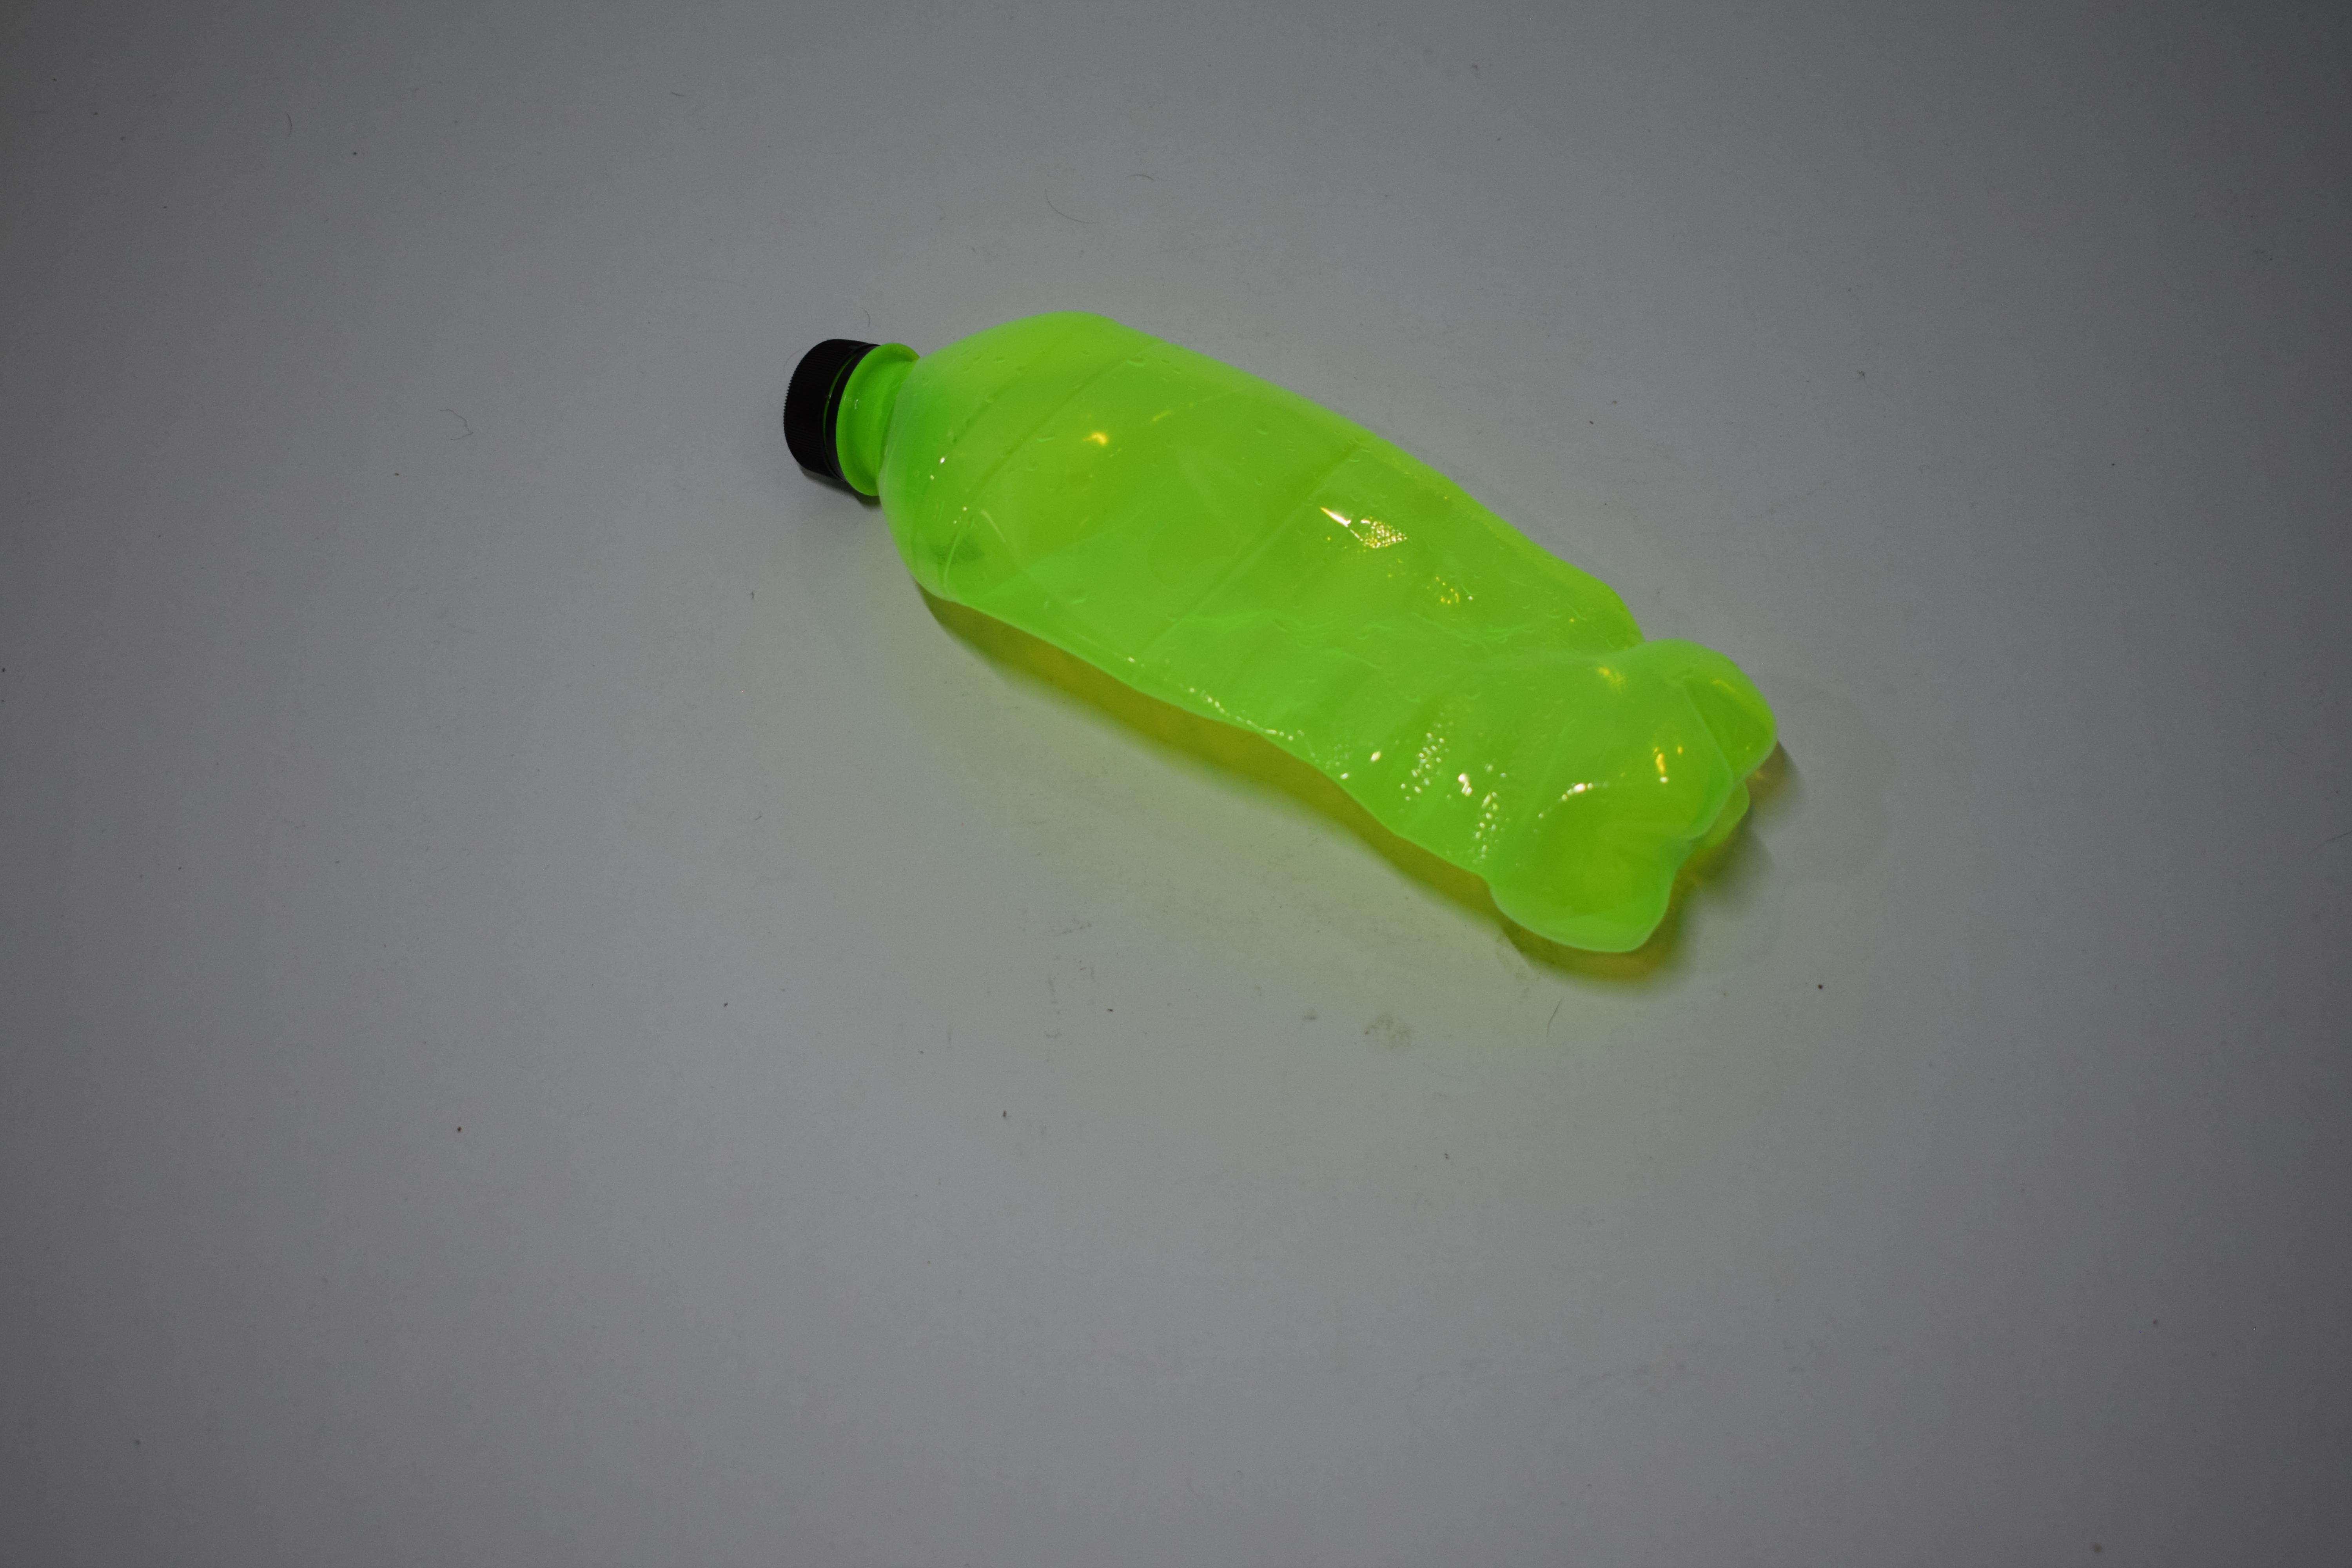bottle: (0, 301, 600, 959)
